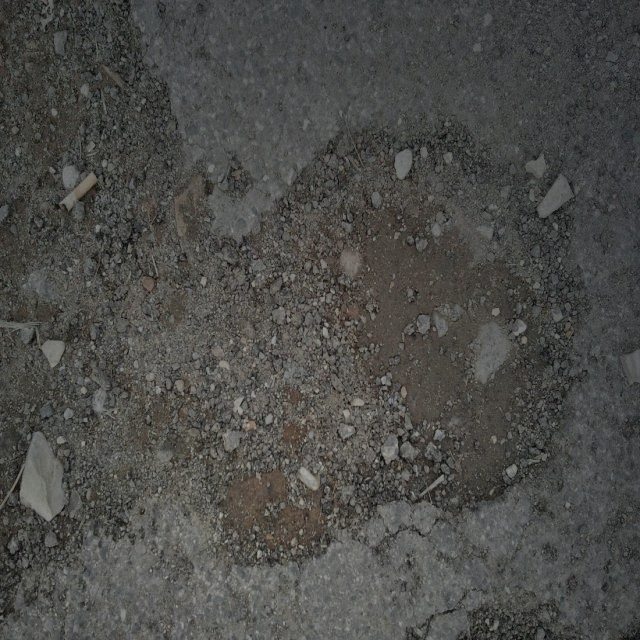pothole: (232, 102, 592, 545)
